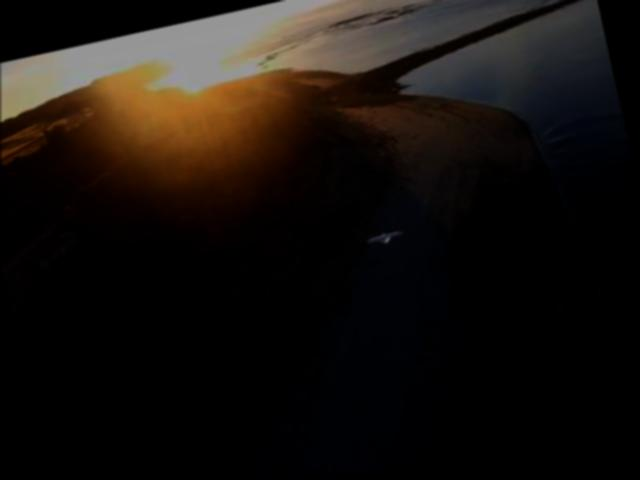uav: (360, 223, 407, 252)
